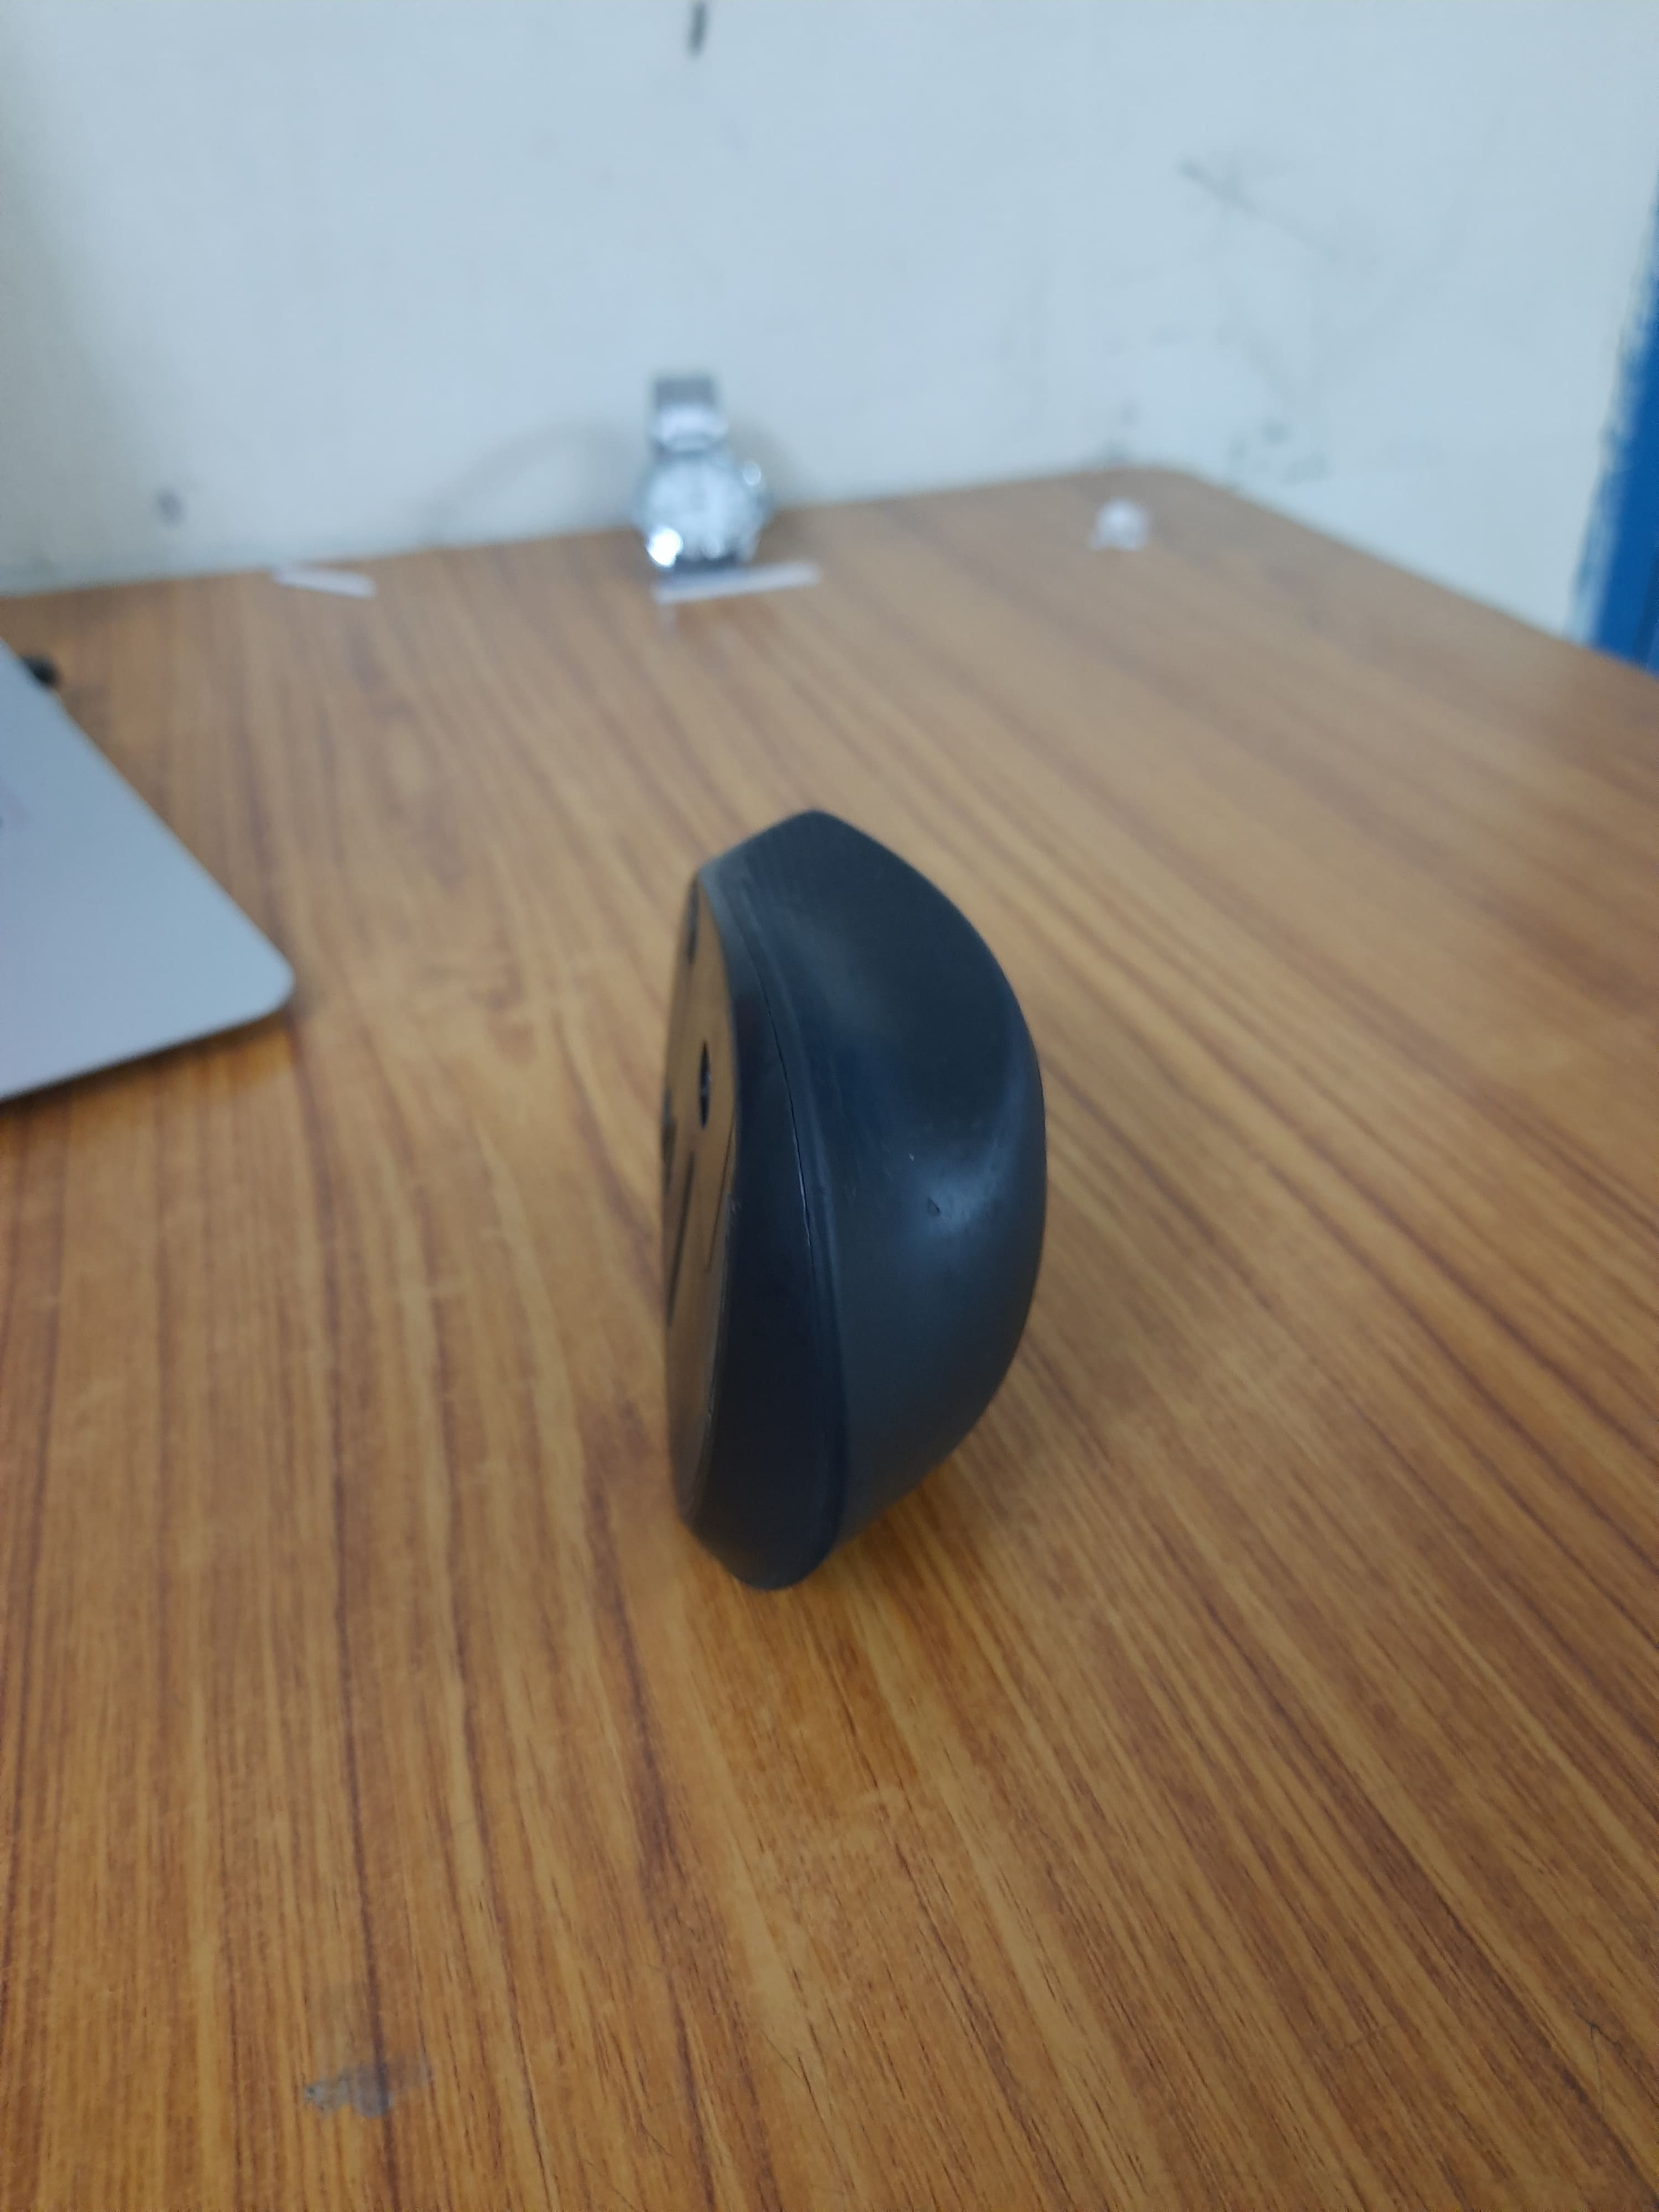Vikash's Mouse: (629, 799, 1063, 1609)
